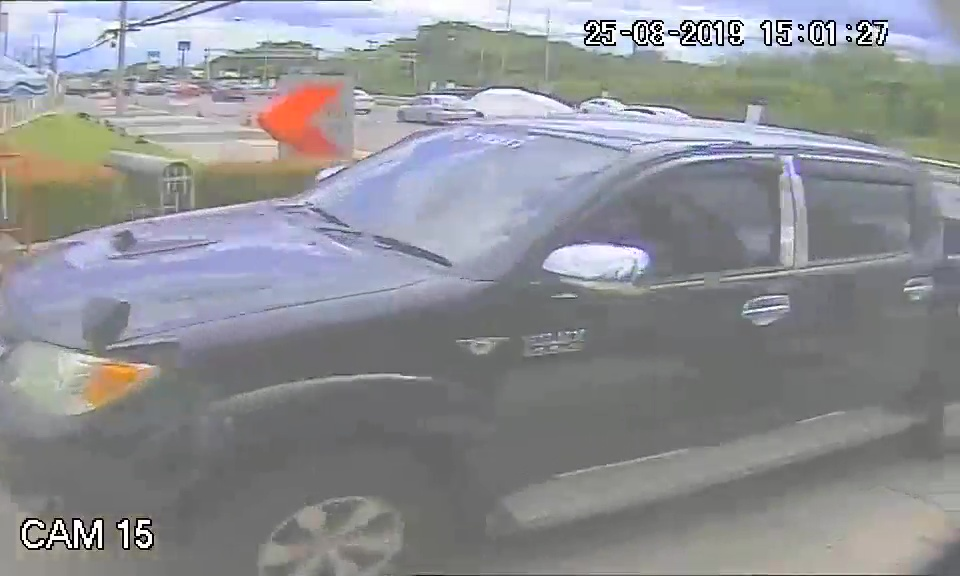pickup: (8, 116, 941, 534)
